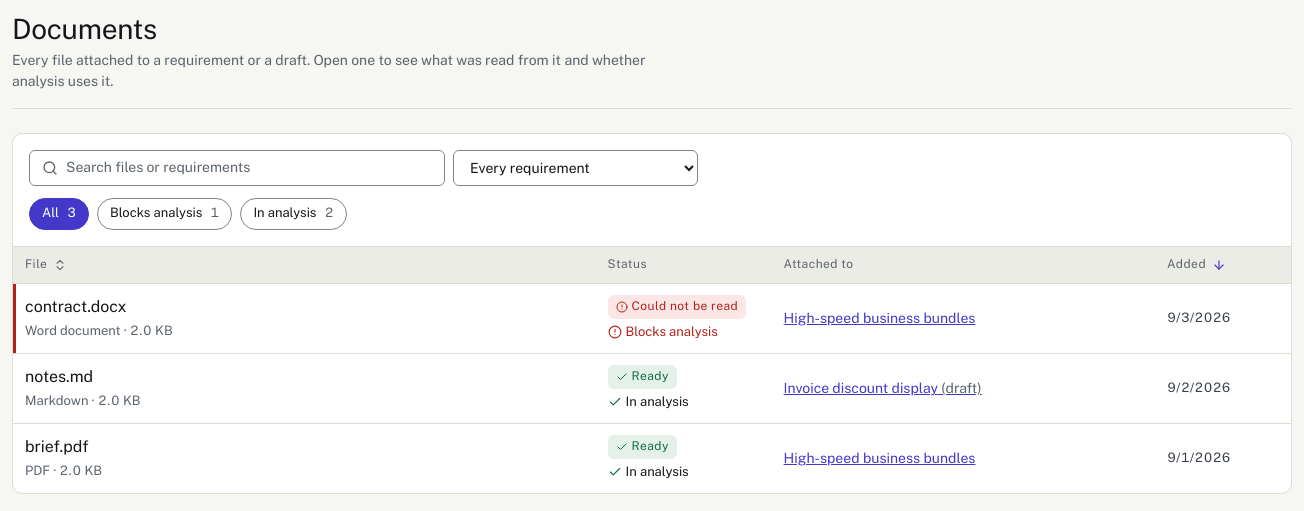
Test: asks the API for the files that need a decision, and searches by name
Check: the link "contract.docx" is shown, box [25,297,126,316]
Click the button "Blocks analysis 1": (165, 214) [97,198,232,230]
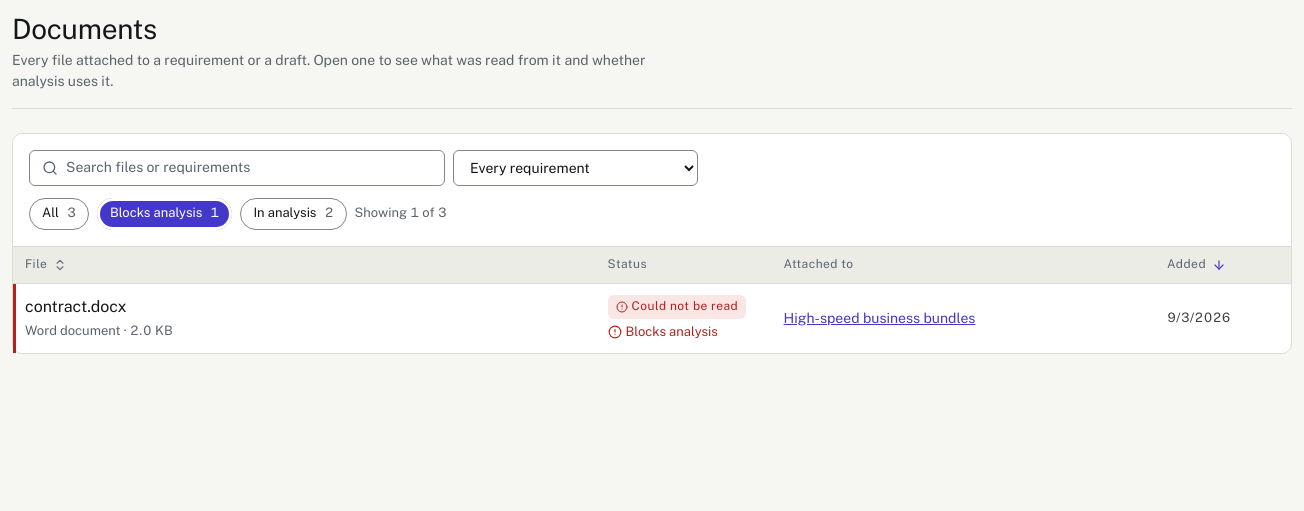
Check: the text "Showing 1 of 3" is shown, box [355,204,447,223]
Click the button "All 3": (59, 214) [29,198,89,230]
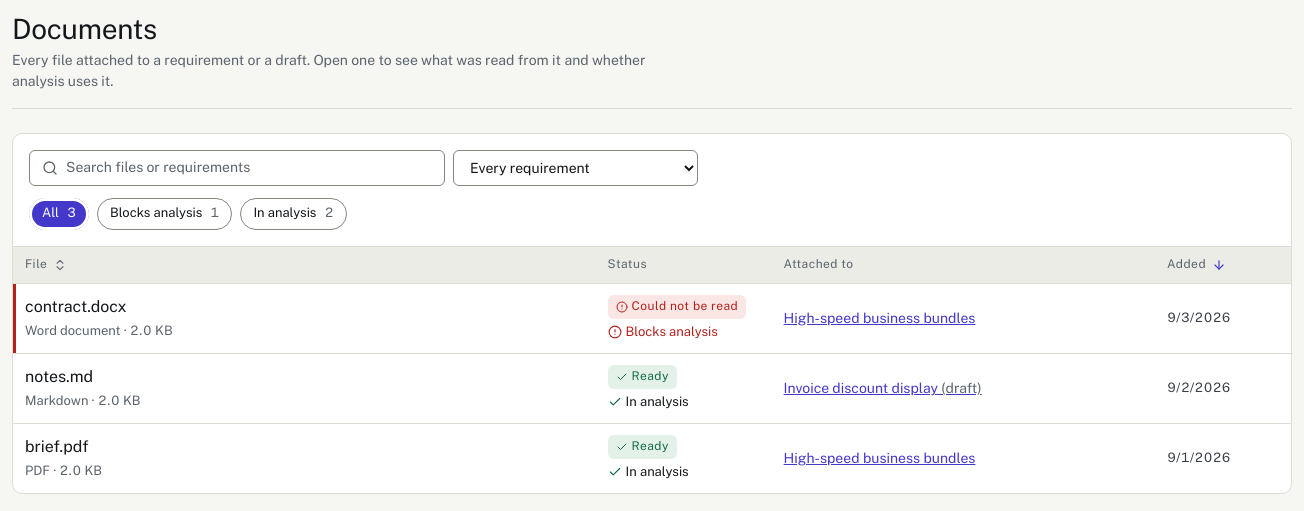
In the search field named "Search files and requirements": (249, 168) [66,152,432,184], type "notes"
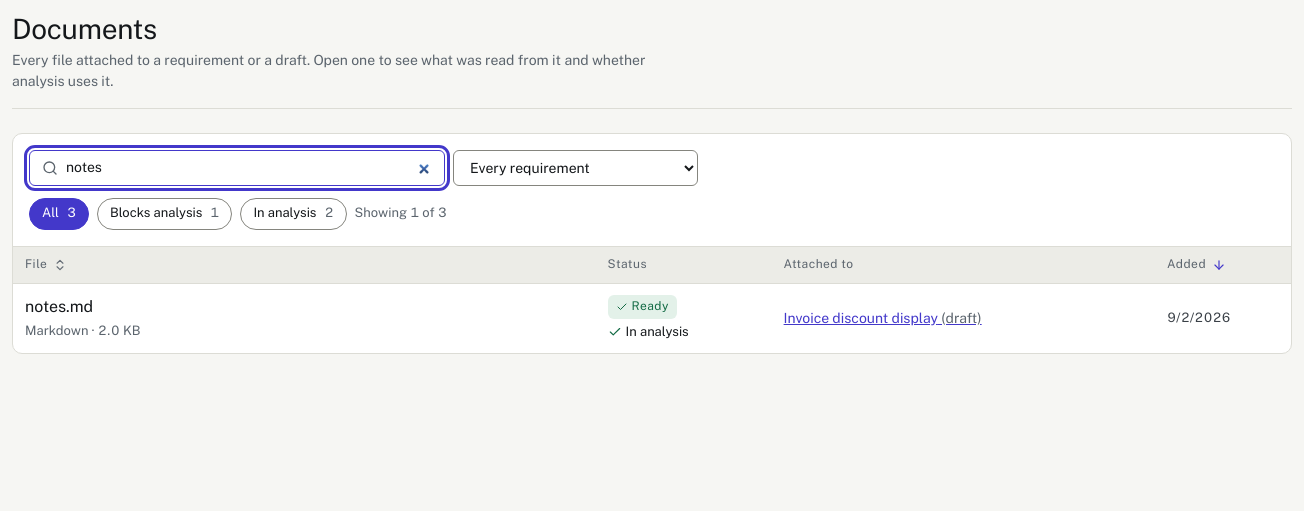
A requirement's name finds its files.
Replace the text in the search field named "Search files and requirements" with "high-speed": (249, 168) [66,152,432,184]
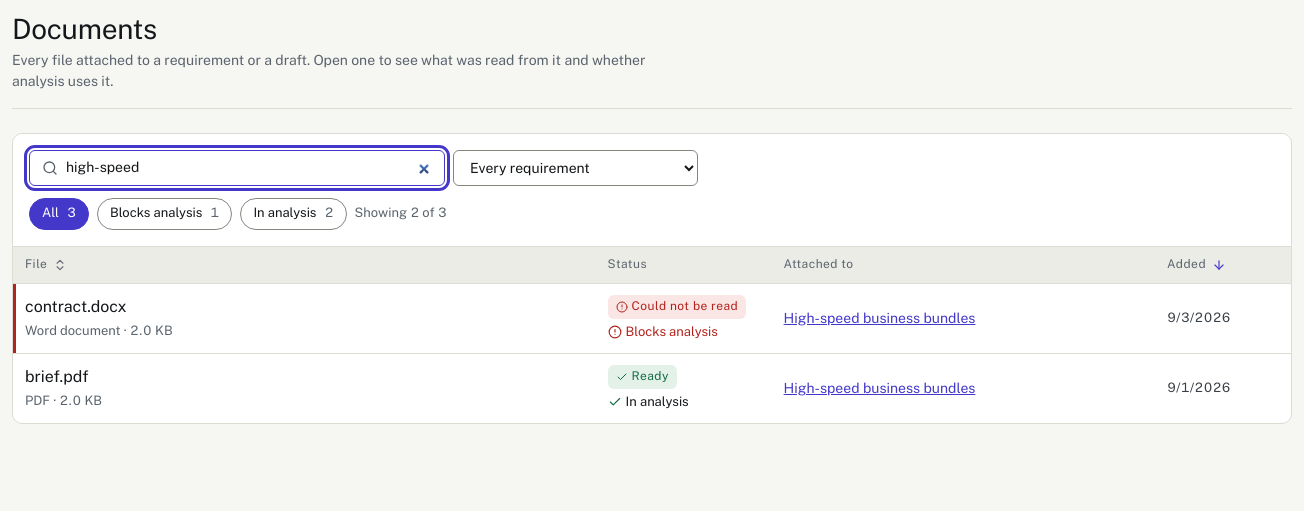
Replace the text in the search field named "Search files and requirements" with "nothing like it": (249, 168) [66,152,432,184]
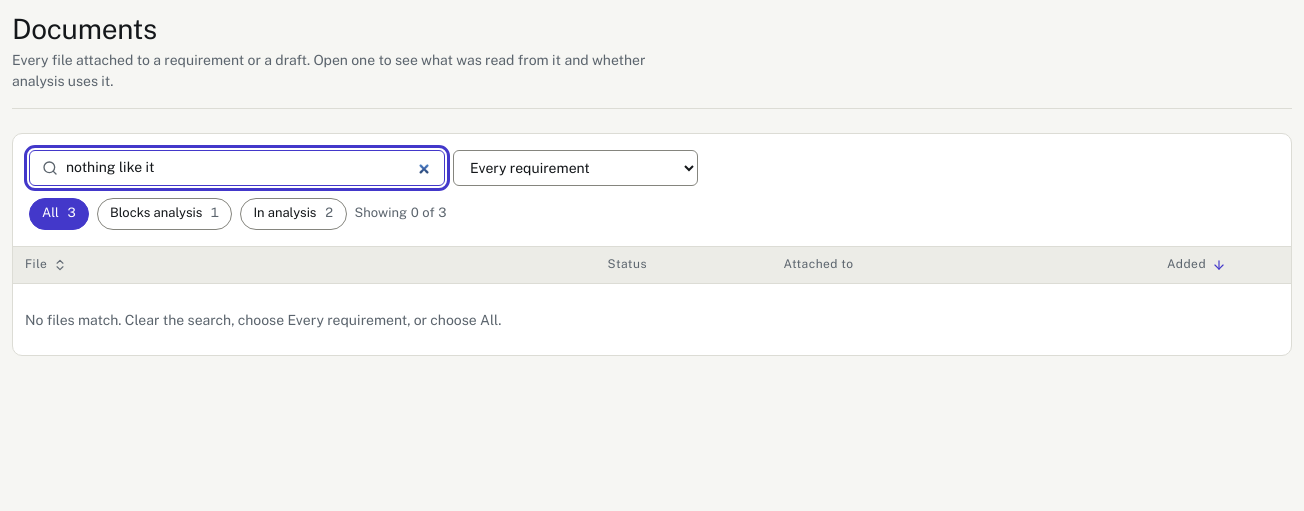
Check: the text "No files match" is shown, box [25,312,502,328]
